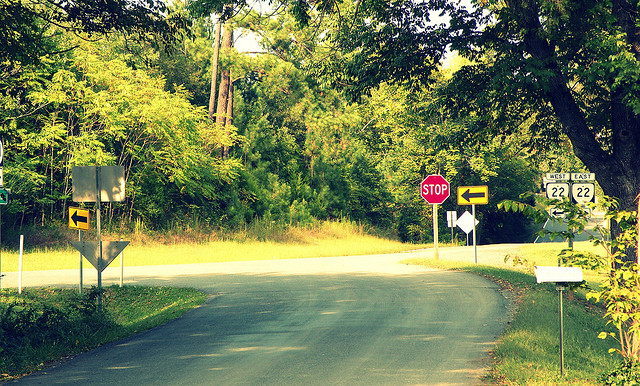Stop: (420, 173, 450, 206)
